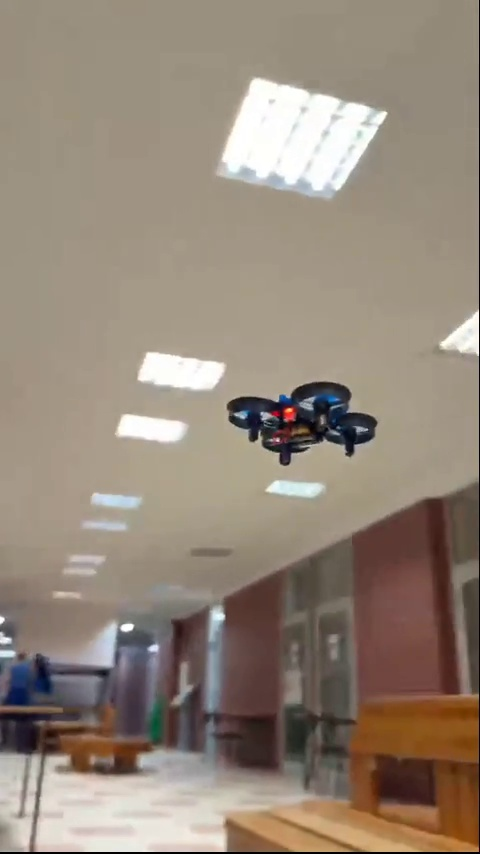drone: (220, 382, 387, 474)
no vest: (0, 641, 43, 715)
